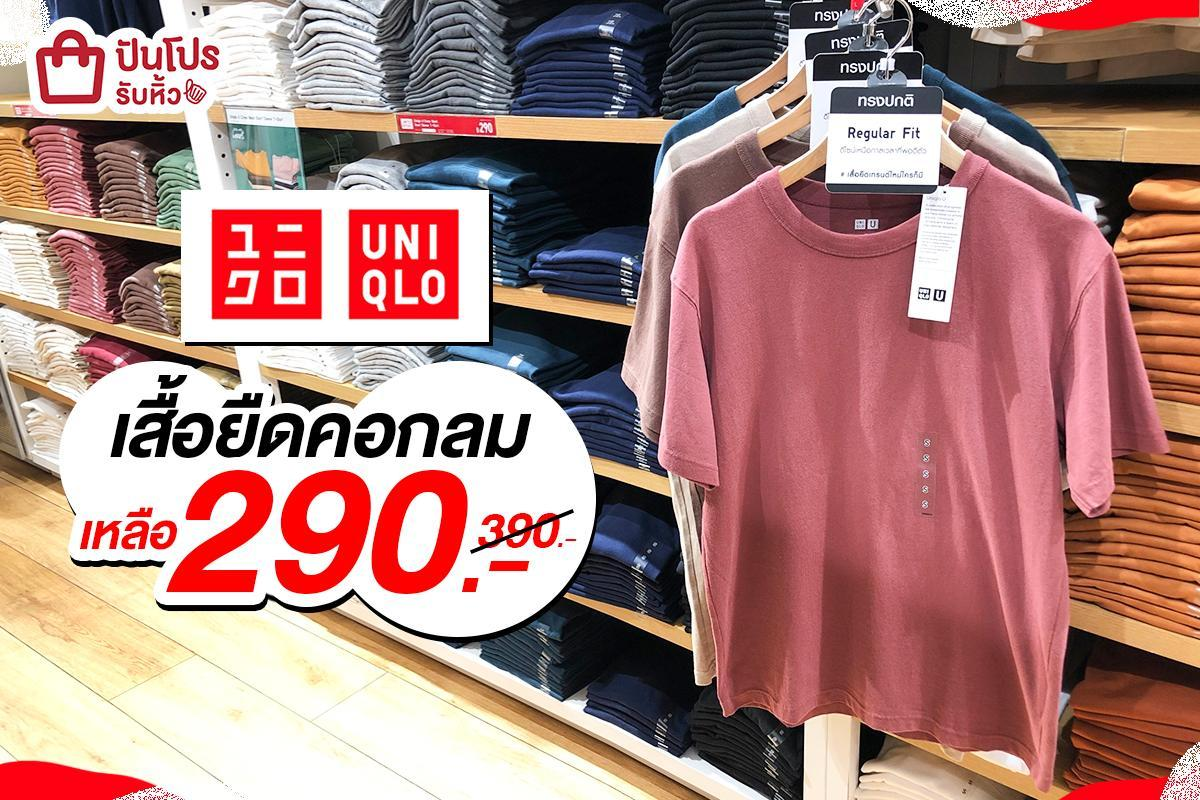Tshirt: (675, 165, 1165, 740)
